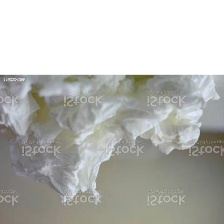tissue: (0, 75, 124, 210), (107, 74, 223, 159)
